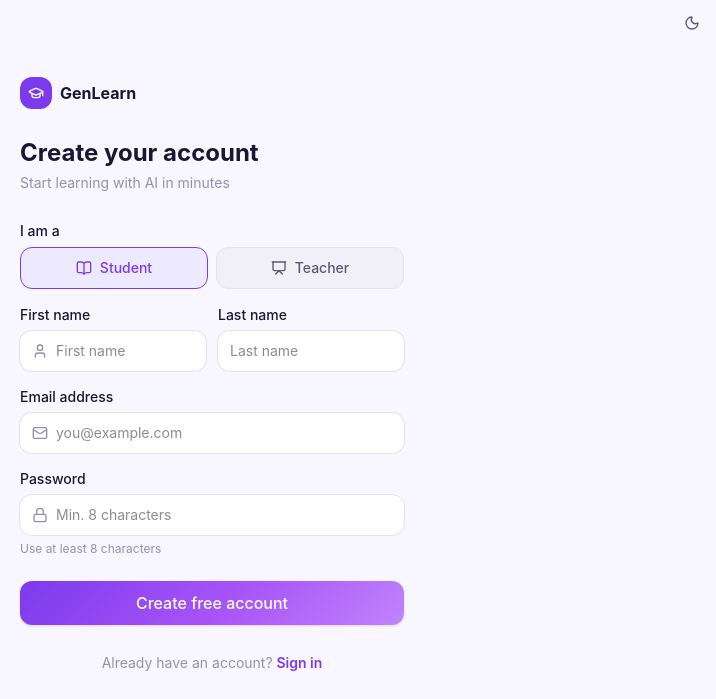
it: RegisterPage › shows required validation for empty first name
Type "Smith" into the field labelled "Last name" at (311, 351), box [218,331,404,371]
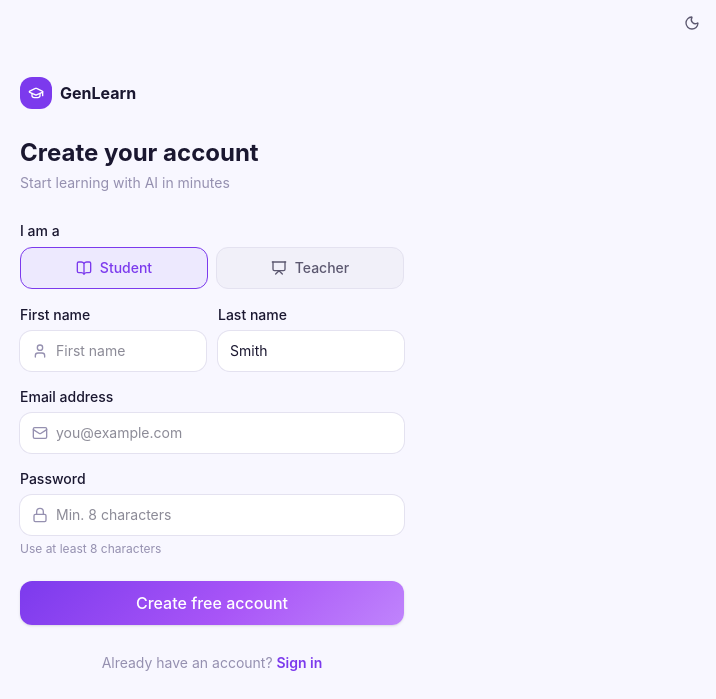
Type "x@test.com" into the field labelled "Email address" at (212, 433), box [20,413,404,453]
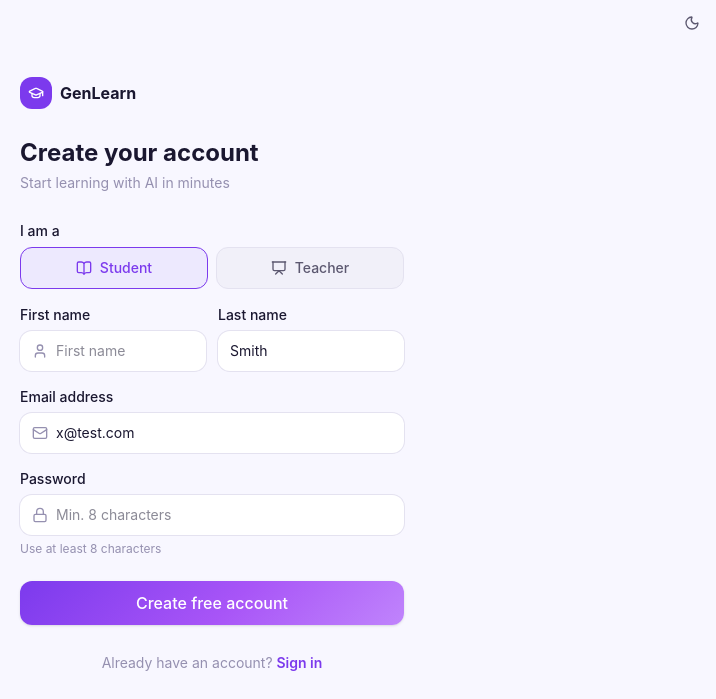
Type "password123" into the password field labelled "Password" at (212, 515), box [20,495,404,535]
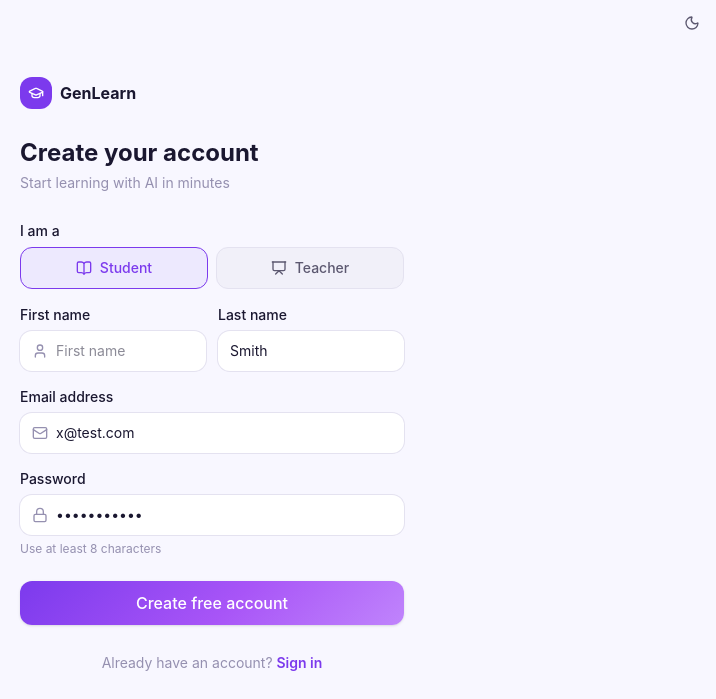
Submit the form from the button "Create free account", box [20,581,404,625]
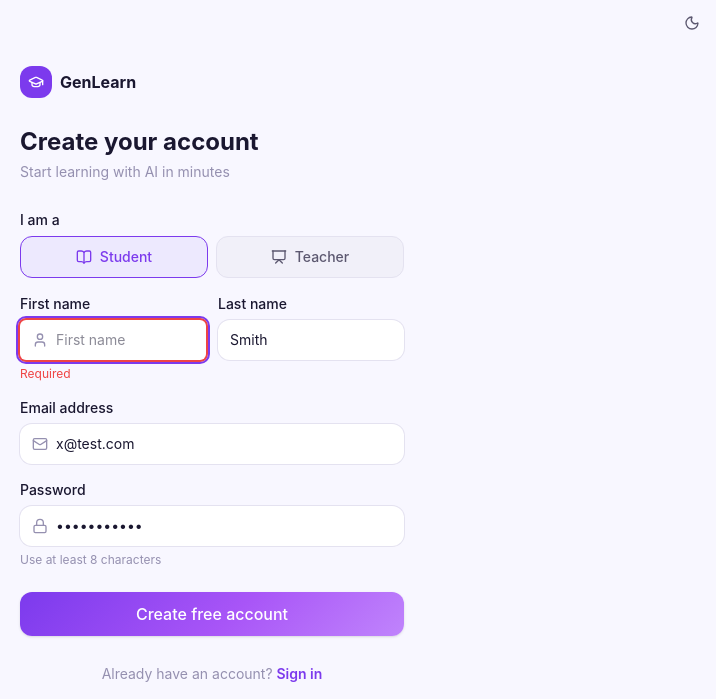
Now the text "Required" is shown, box [20,366,71,381]
